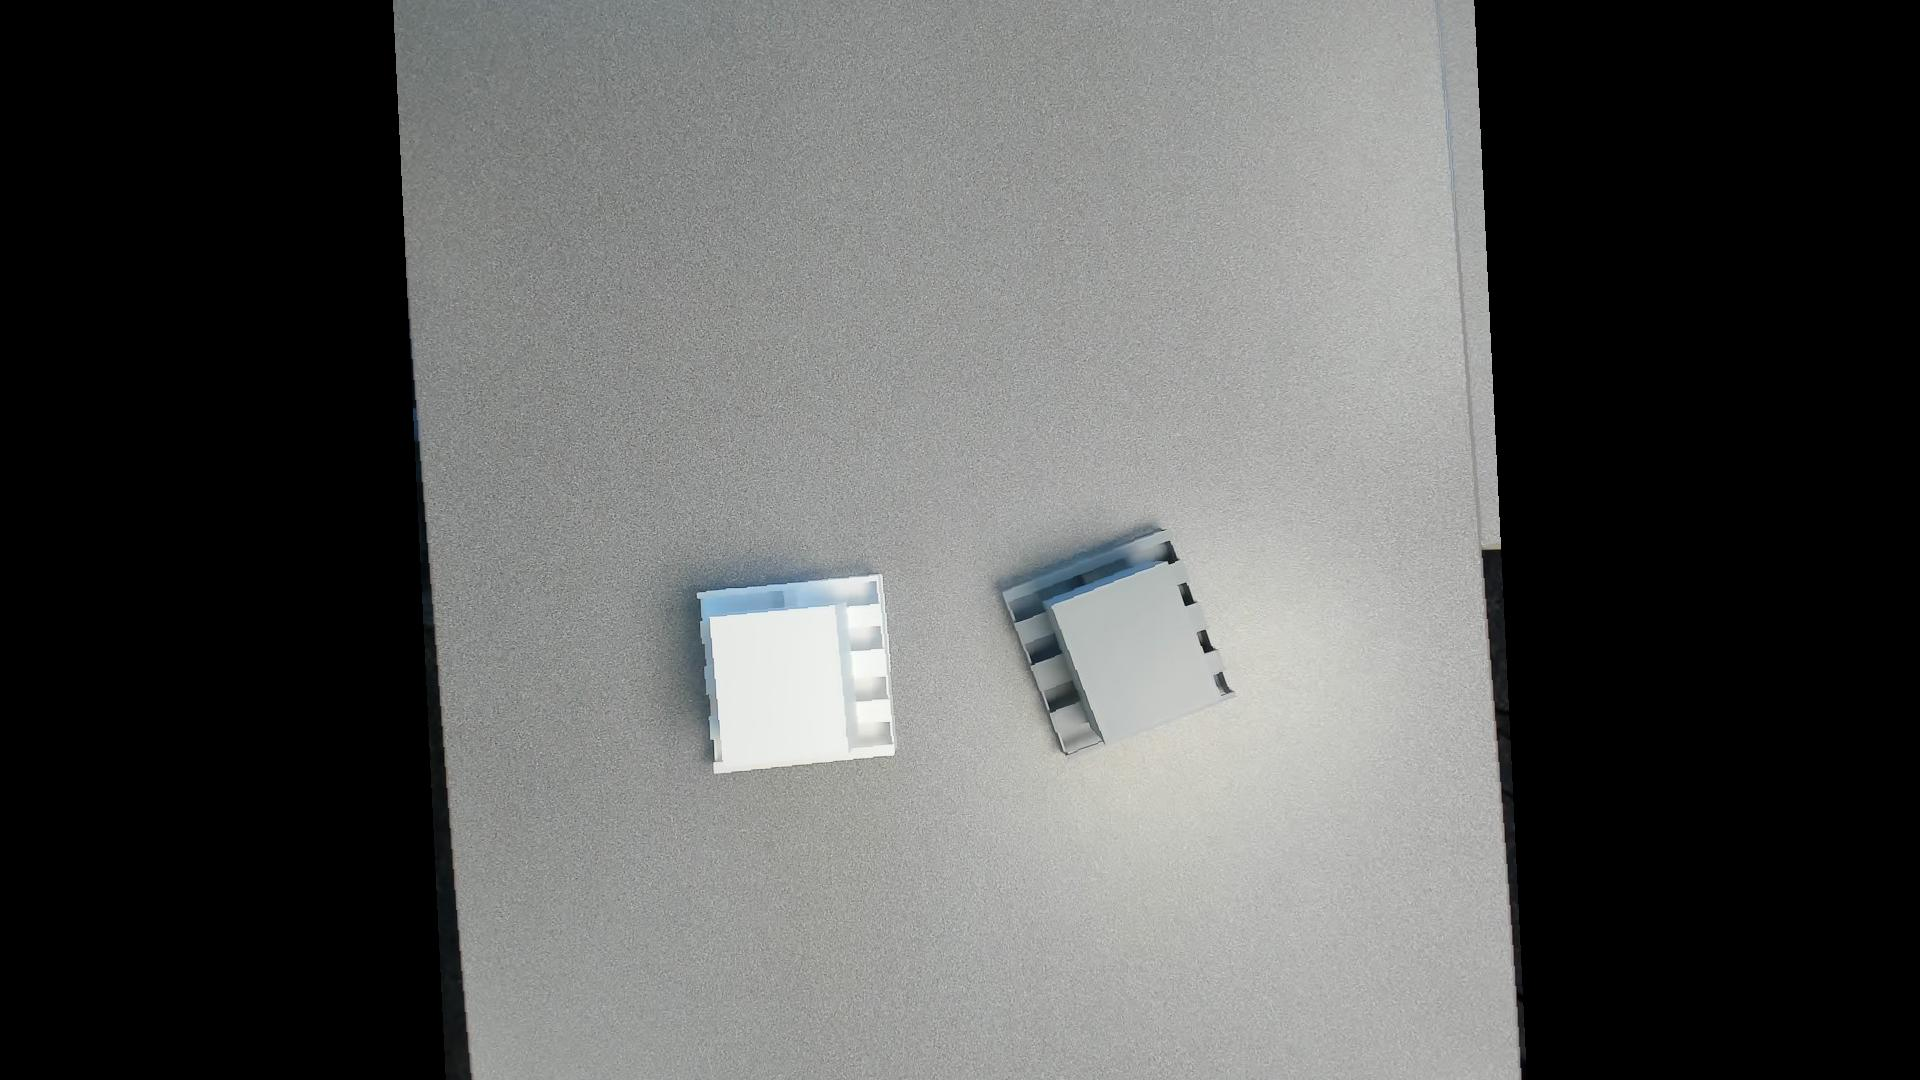grey pallet: (985, 510, 1255, 774)
white pallet: (691, 563, 901, 779)
